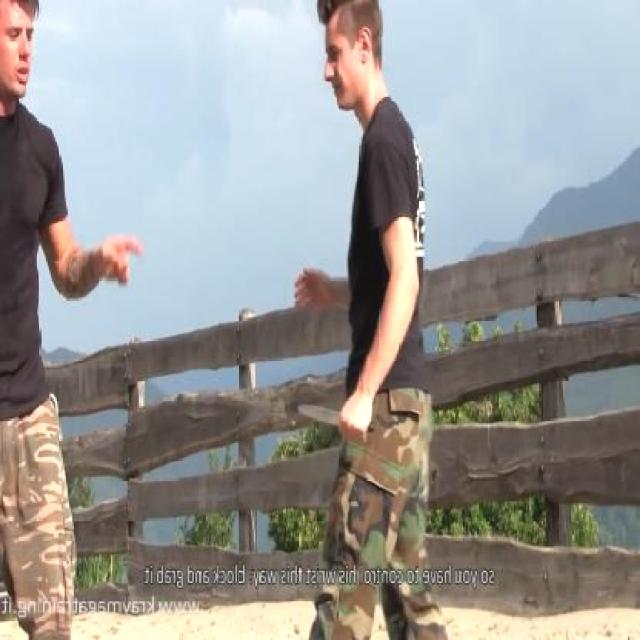knife: (291, 395, 375, 451)
